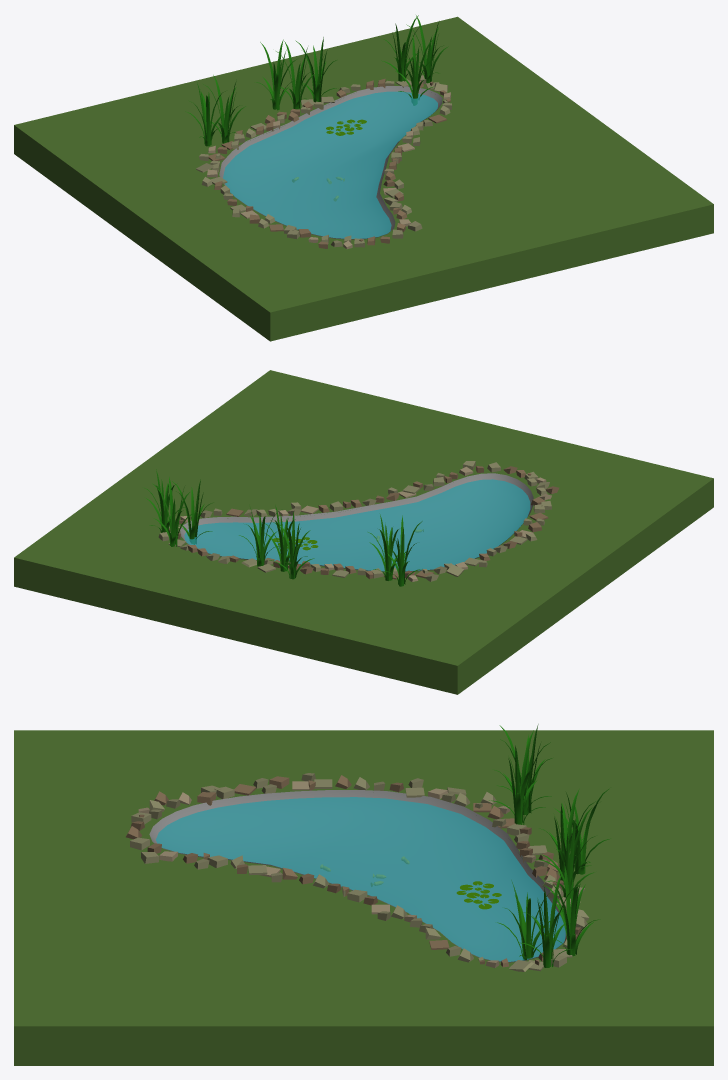
The model's file is pond.gltf.
3 views of the same model, one above another, from view 1: azimuth 30°, elevation 25°; view 2: azimuth 150°, elevation 25°; view 3: azimuth 270°, elevation 25° (orthographic). The views are drawn at different scales.
Parts seen in each view (by area): view 1: Ground, Sphere, Water; view 2: Ground, Sphere, Water; view 3: Ground, Sphere, Water.
Part boxes in pixels (box(x1,y1,x2,y2)): Ground: box(14, 16, 713, 341); Sphere: box(219, 86, 442, 239); Water: box(223, 91, 437, 238); Ground: box(14, 370, 713, 694); Sphere: box(180, 473, 533, 571); Water: box(184, 479, 530, 571); Ground: box(14, 730, 713, 1065); Sphere: box(149, 790, 566, 962); Water: box(156, 797, 565, 961).
Size of the model in its own units: 15.38 by 3.04 by 15.38.
